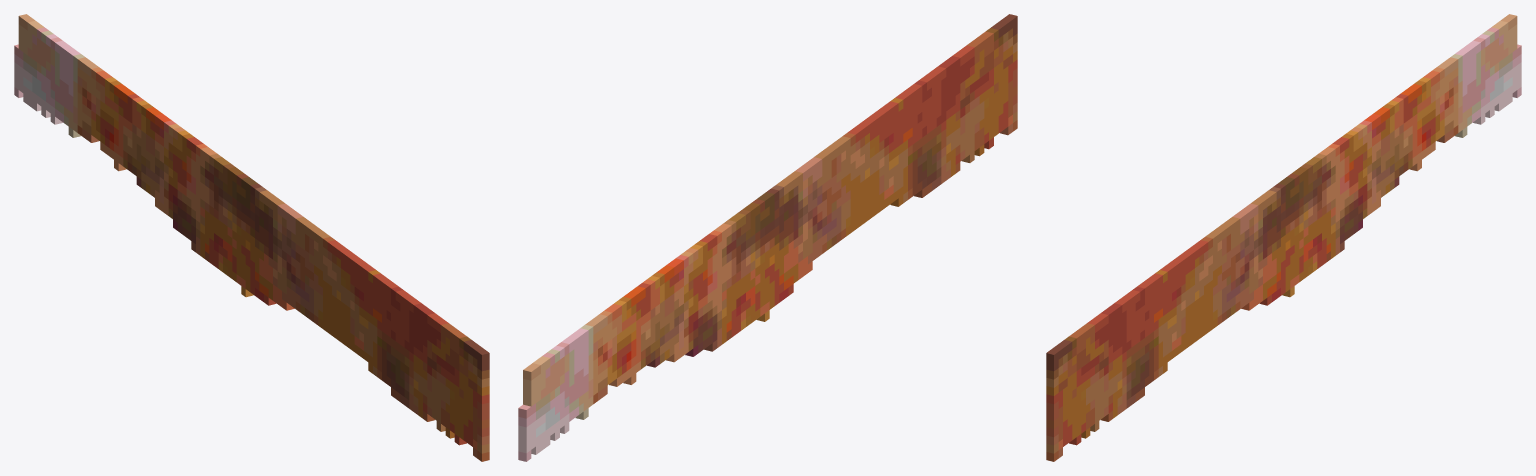
The model's file is beda.vox-7-beda_l.obj.
3 renders of one model, left to right at view 1: azimuth 30°, elevation 25°; view 2: azimuth 150°, elevation 25°; view 3: azimuth 330°, elevation 25°, orthographic. The views are drawn at different scales.
Visible parts, largest first — view 1: beda_l; view 2: beda_l; view 3: beda_l.
Part boxes in pixels (x1,y1,x2,y2): beda_l: (14,14,489,461); beda_l: (518,14,1017,461); beda_l: (1046,14,1521,461).
Size of the model in its own units: 0.1 by 1.4 by 10.3.
1 material, 1 textured.
